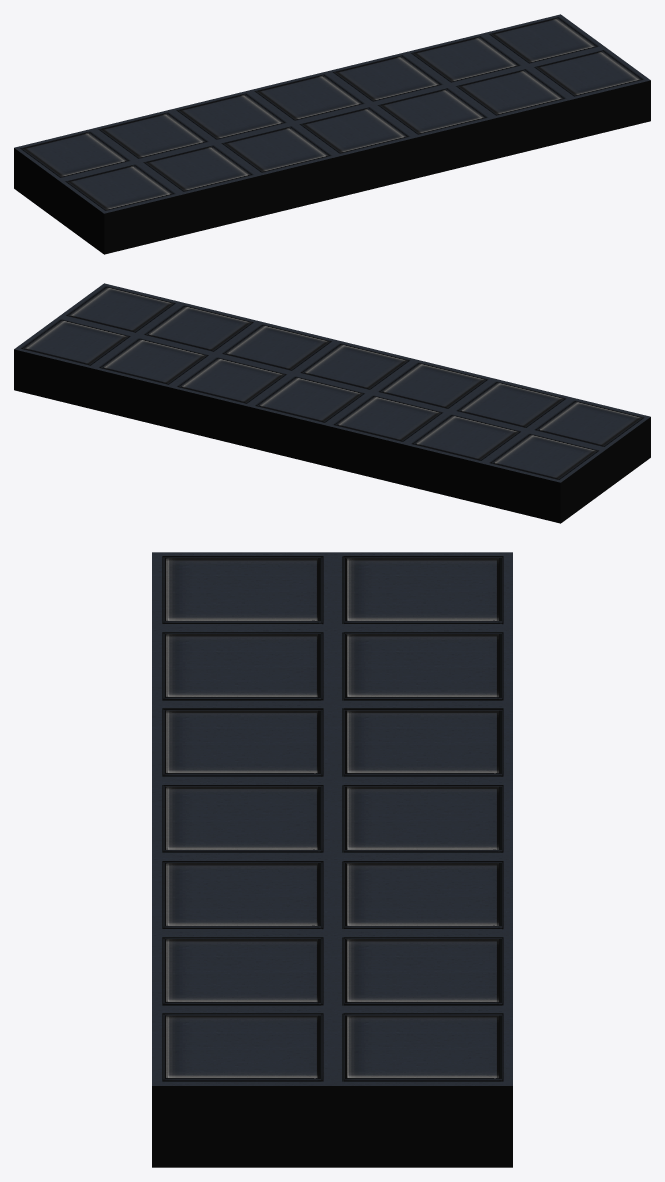
3 views of the same model, one above another, from view 1: azimuth 30°, elevation 25°; view 2: azimuth 150°, elevation 25°; view 3: azimuth 270°, elevation 25° (orthographic). The views are drawn at different scales.
Parts seen in each view (by area): view 1: Cube.074; view 2: Cube.074; view 3: Cube.074.
Part boxes in pixels (x1,y1,x2,y2): Cube.074: (14, 14, 650, 254); Cube.074: (14, 283, 650, 523); Cube.074: (152, 552, 512, 1167).
Size of the model in its own units: 14 by 1 by 4.
Materials: 2 (1 with a texture image).
